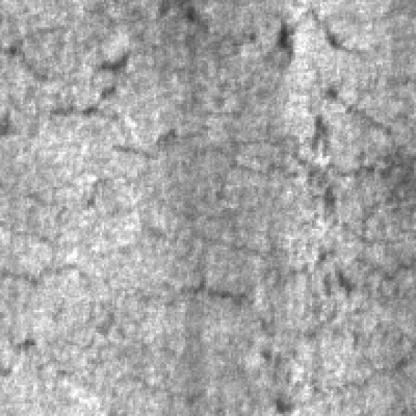crazing: (222, 35, 410, 248), (176, 243, 408, 406), (0, 20, 170, 133)
